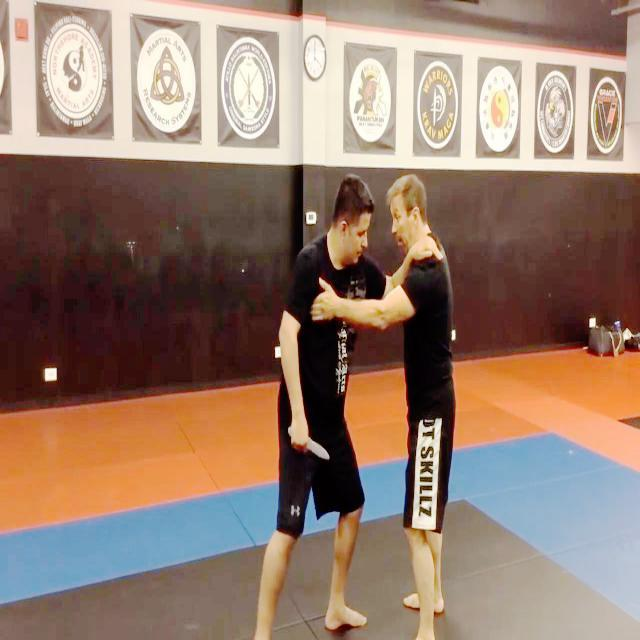Knife: (288, 422, 334, 462)
